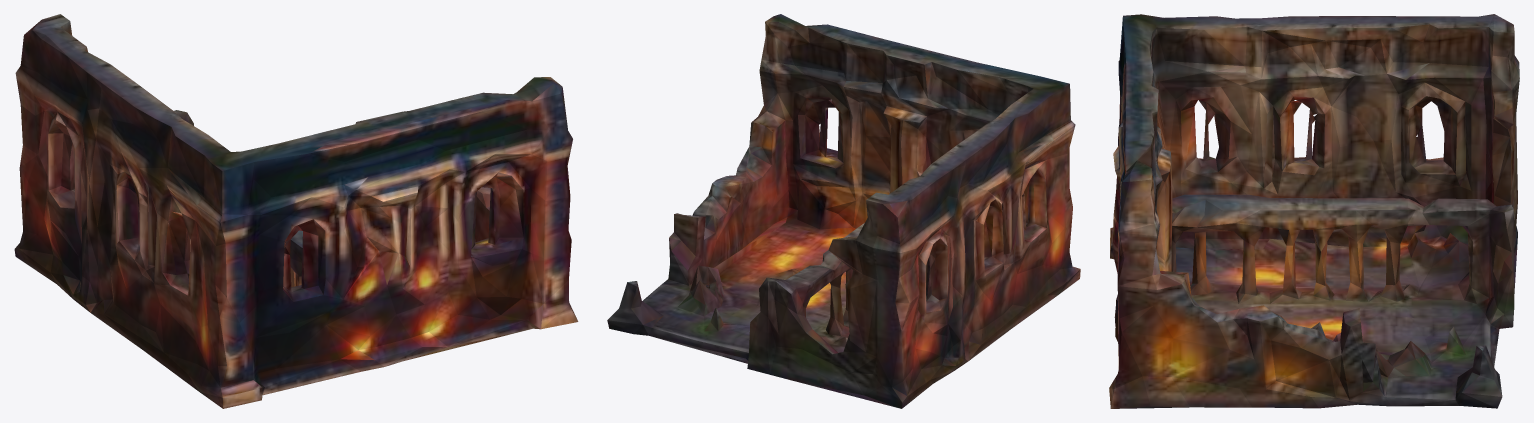
Rendered from cottage_straw_roof_b_lod1.glb.
The picture shows the model from 3 angles, left to right: view 1: azimuth 30°, elevation 25°; view 2: azimuth 150°, elevation 25°; view 3: azimuth 270°, elevation 25°; orthographic projection. The views are drawn at different scales.
Visible parts, largest first — view 1: cottage_straw_roof_b_lod1; view 2: cottage_straw_roof_b_lod1; view 3: cottage_straw_roof_b_lod1.
Part boxes in pixels (box(x1,y1,x2,y2)): cottage_straw_roof_b_lod1: box(14, 14, 578, 408); cottage_straw_roof_b_lod1: box(607, 14, 1080, 408); cottage_straw_roof_b_lod1: box(1109, 14, 1519, 408).
Size of the model in its own units: 5.91 by 3.72 by 5.99.
1 material, 1 textured.
